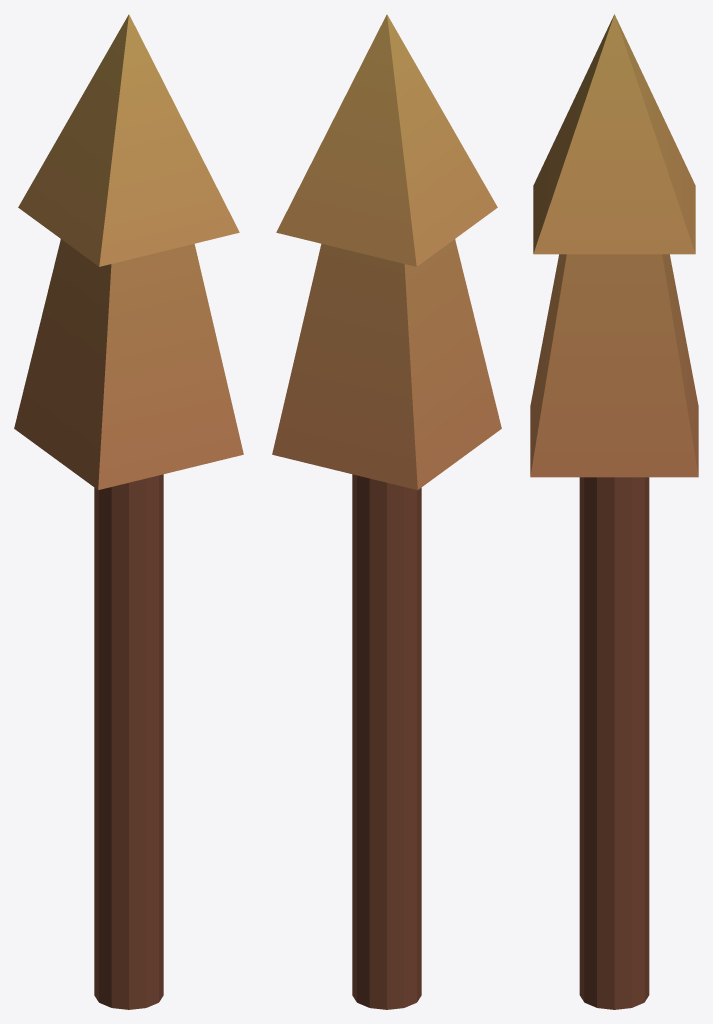
The model's file is Tree_16_gradient_yellow_vc.fbx.
3 views of the same model, side by side, from view 1: azimuth 30°, elevation 25°; view 2: azimuth 150°, elevation 25°; view 3: azimuth 270°, elevation 25° (orthographic).
Visible parts, largest first — view 1: Tree_16_gradient_yellow_vc; view 2: Tree_16_gradient_yellow_vc; view 3: Tree_16_gradient_yellow_vc.
Part boxes in pixels (x1,y1,x2,y2): Tree_16_gradient_yellow_vc: (14,14,243,1009); Tree_16_gradient_yellow_vc: (272,14,501,1009); Tree_16_gradient_yellow_vc: (530,14,698,1009).
Bounding box in the file's own units: 53.67 × 345 × 53.67.
